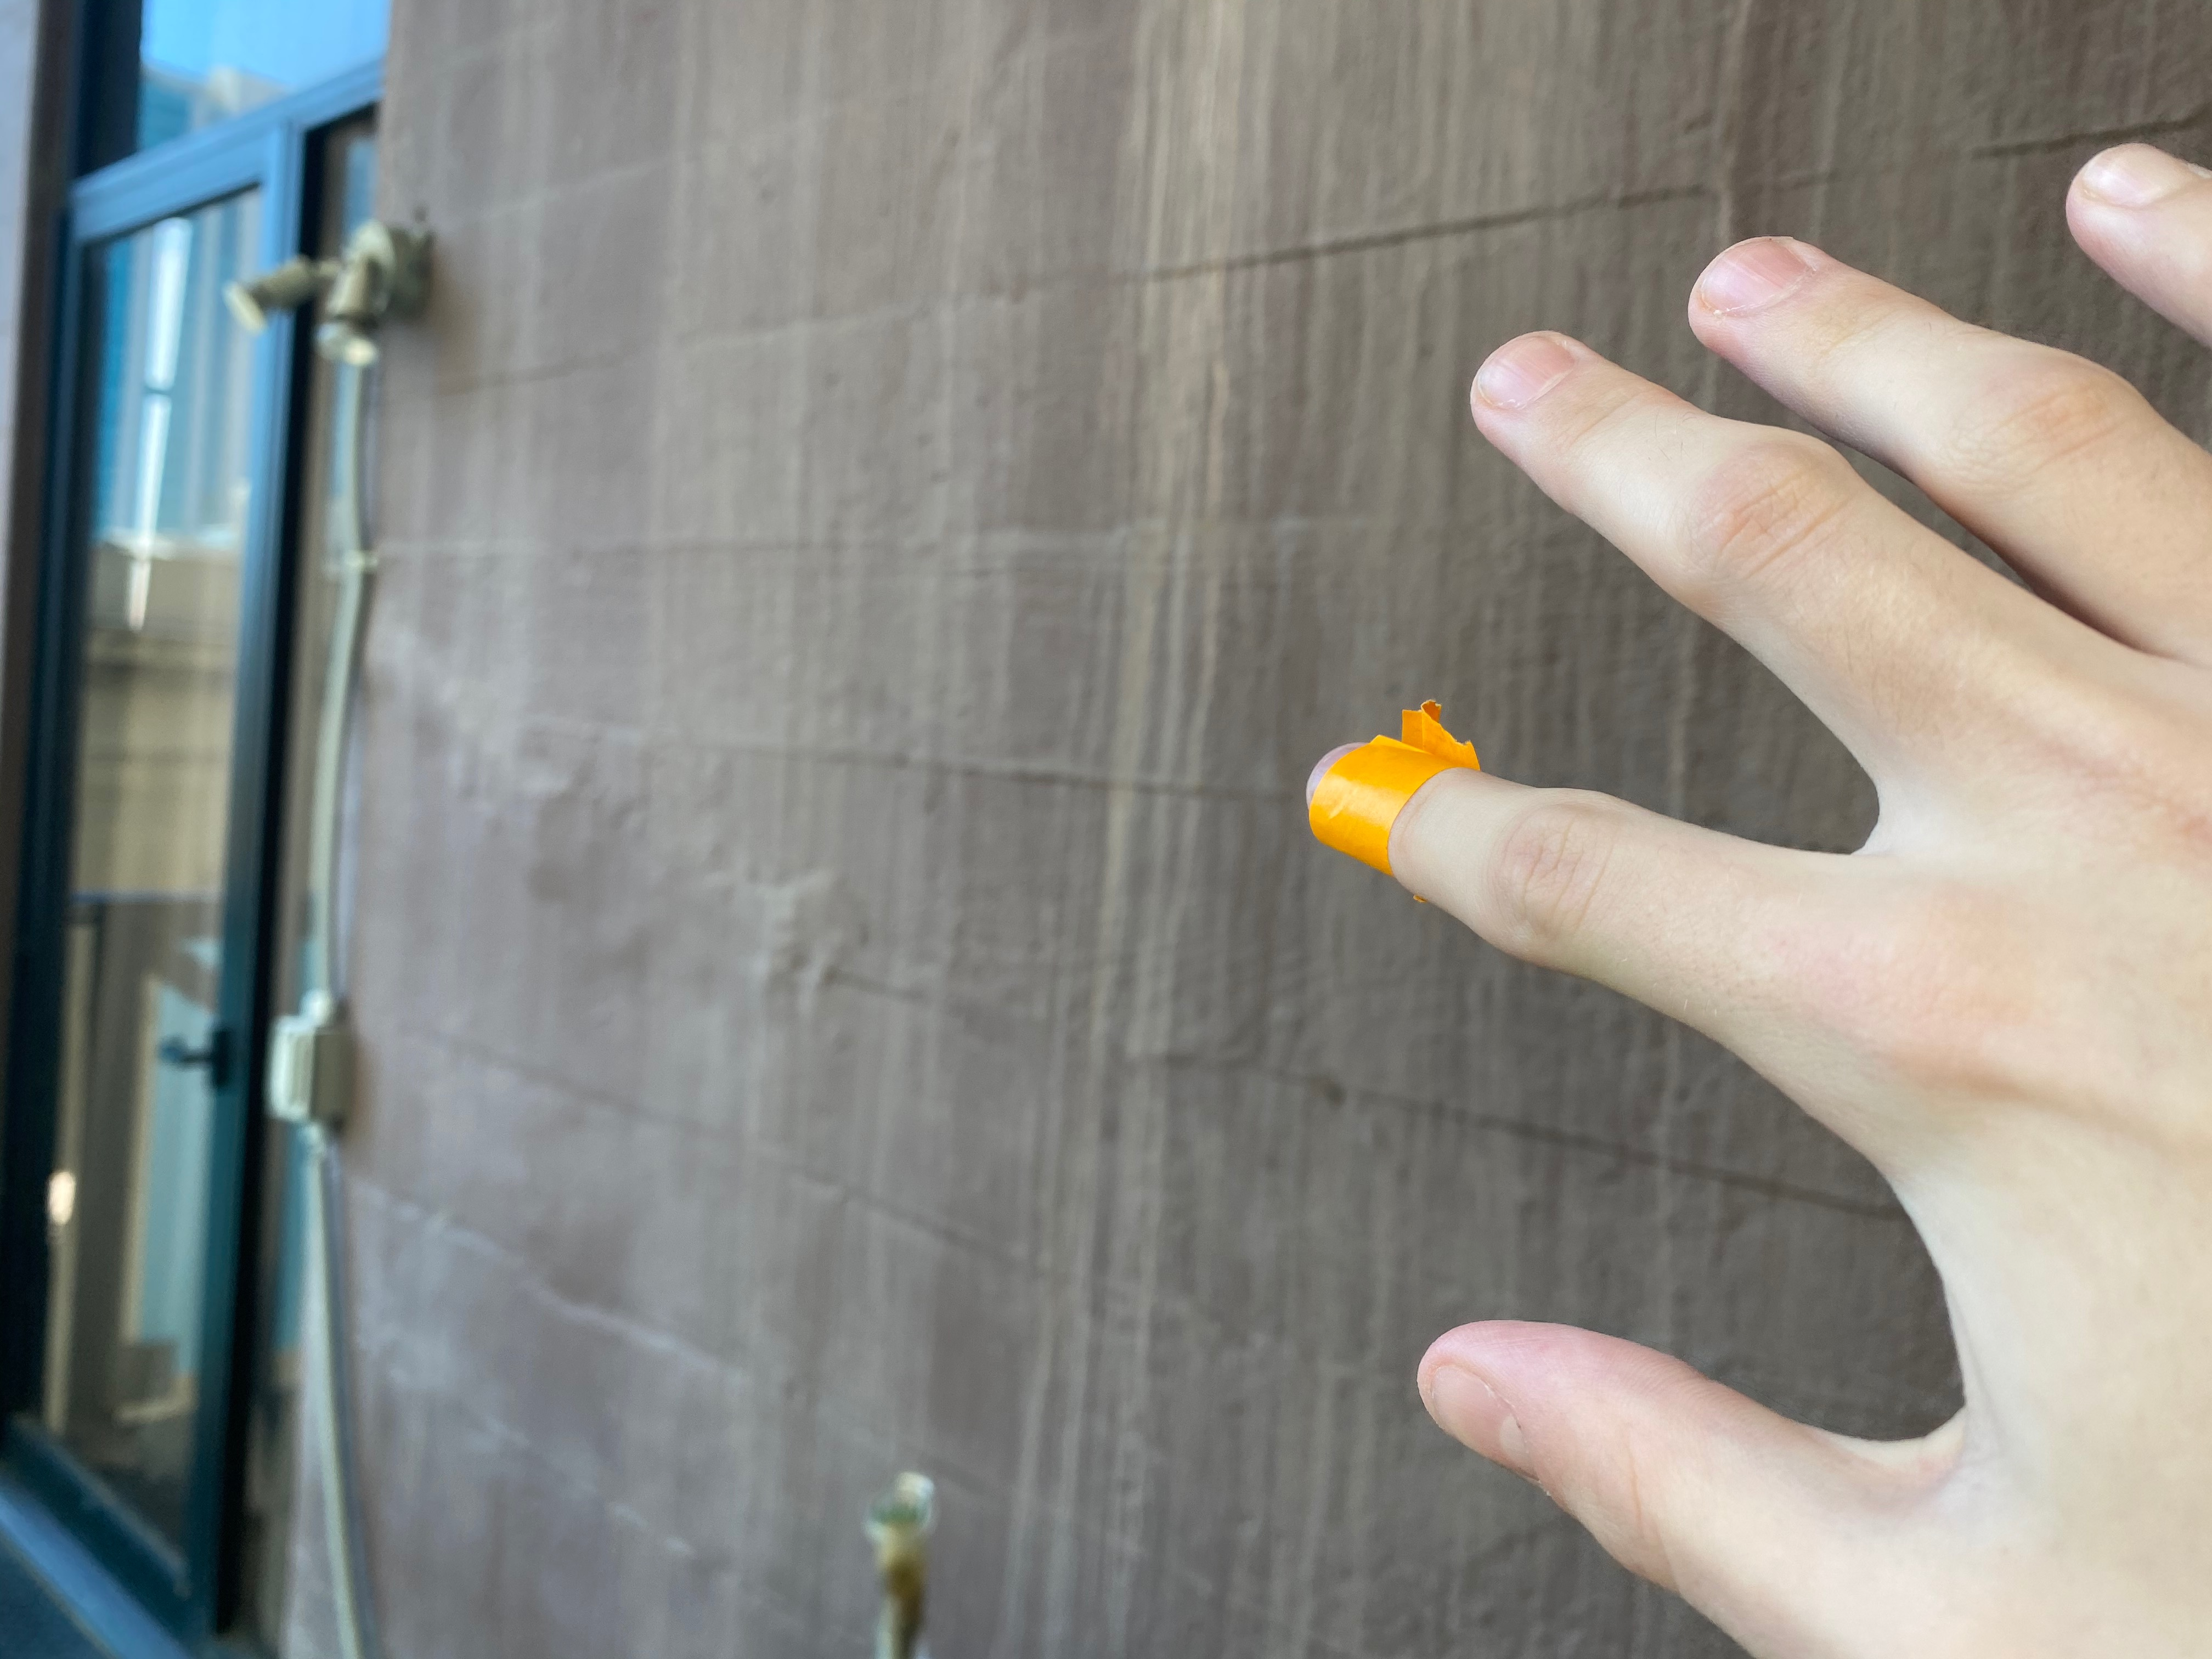fingertip: (1258, 659, 1531, 908)
